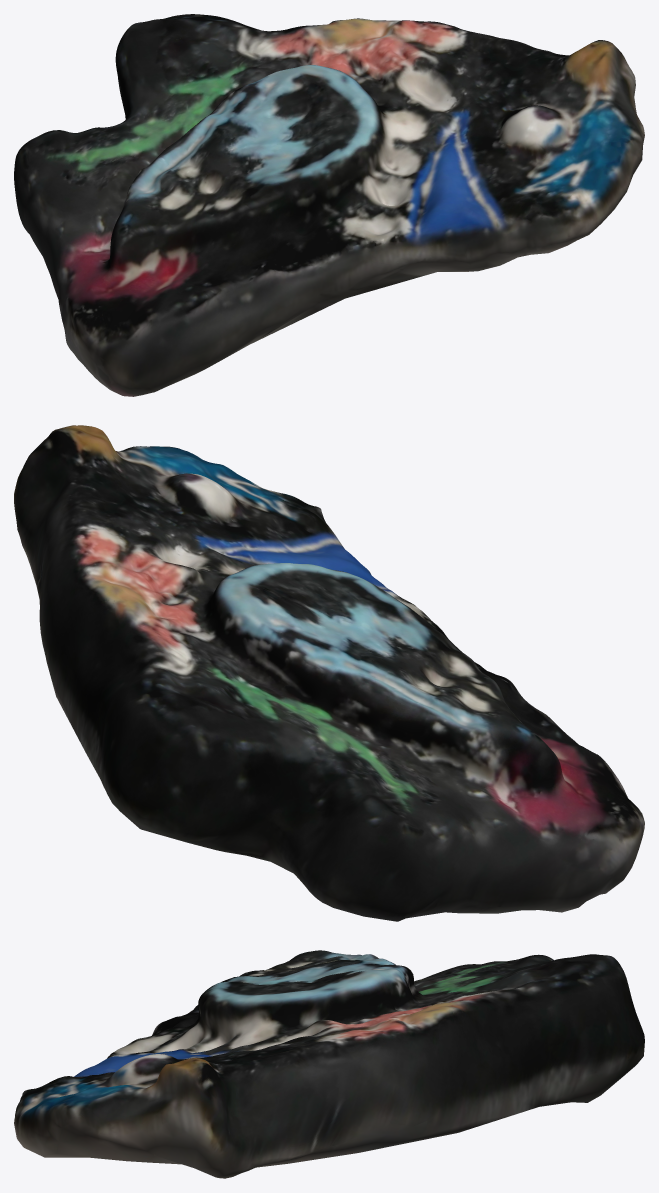
3 renders of one model, top to bottom at view 1: azimuth 30°, elevation 25°; view 2: azimuth 150°, elevation 25°; view 3: azimuth 270°, elevation 25°, orthographic. The views are drawn at different scales.
Bounding box in the file's own units: 0.5893 × 0.2701 × 0.5289.
Materials: 1 (1 with a texture image).
